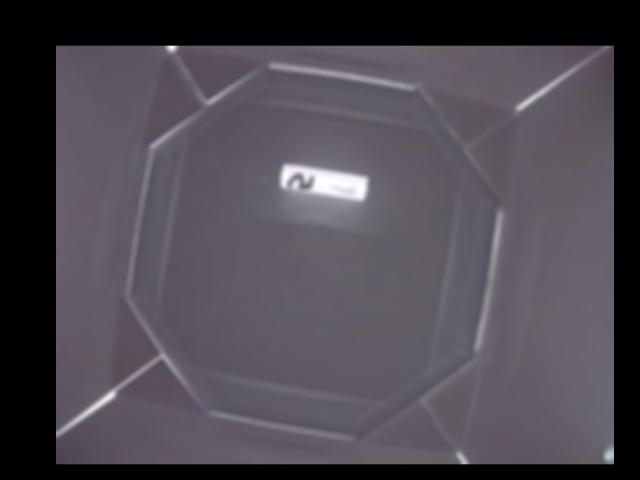Battery: (280, 162, 369, 200)
